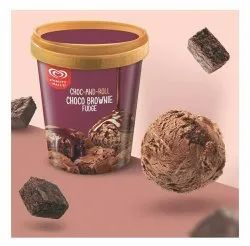Kwality_Walls: (45, 63, 73, 81)
